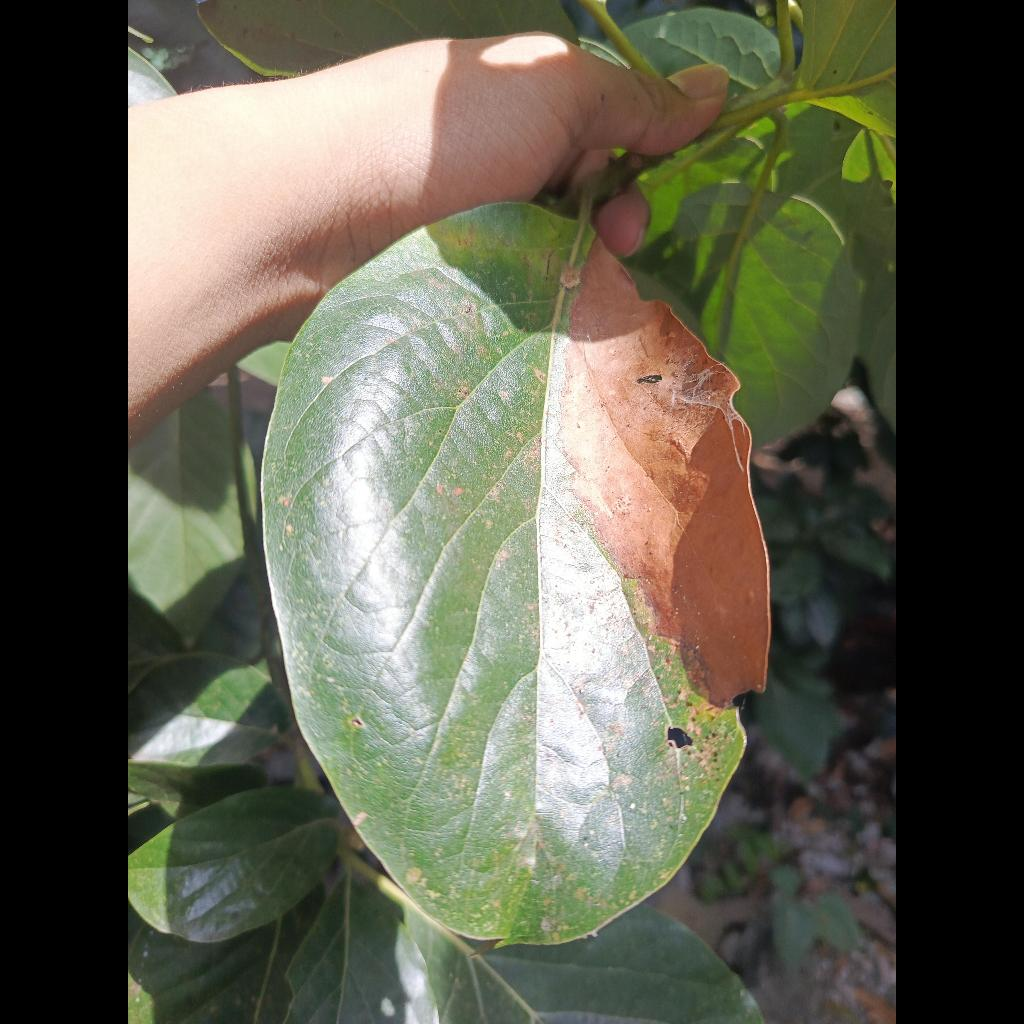antracnosis_hoja: (264, 205, 765, 944)
